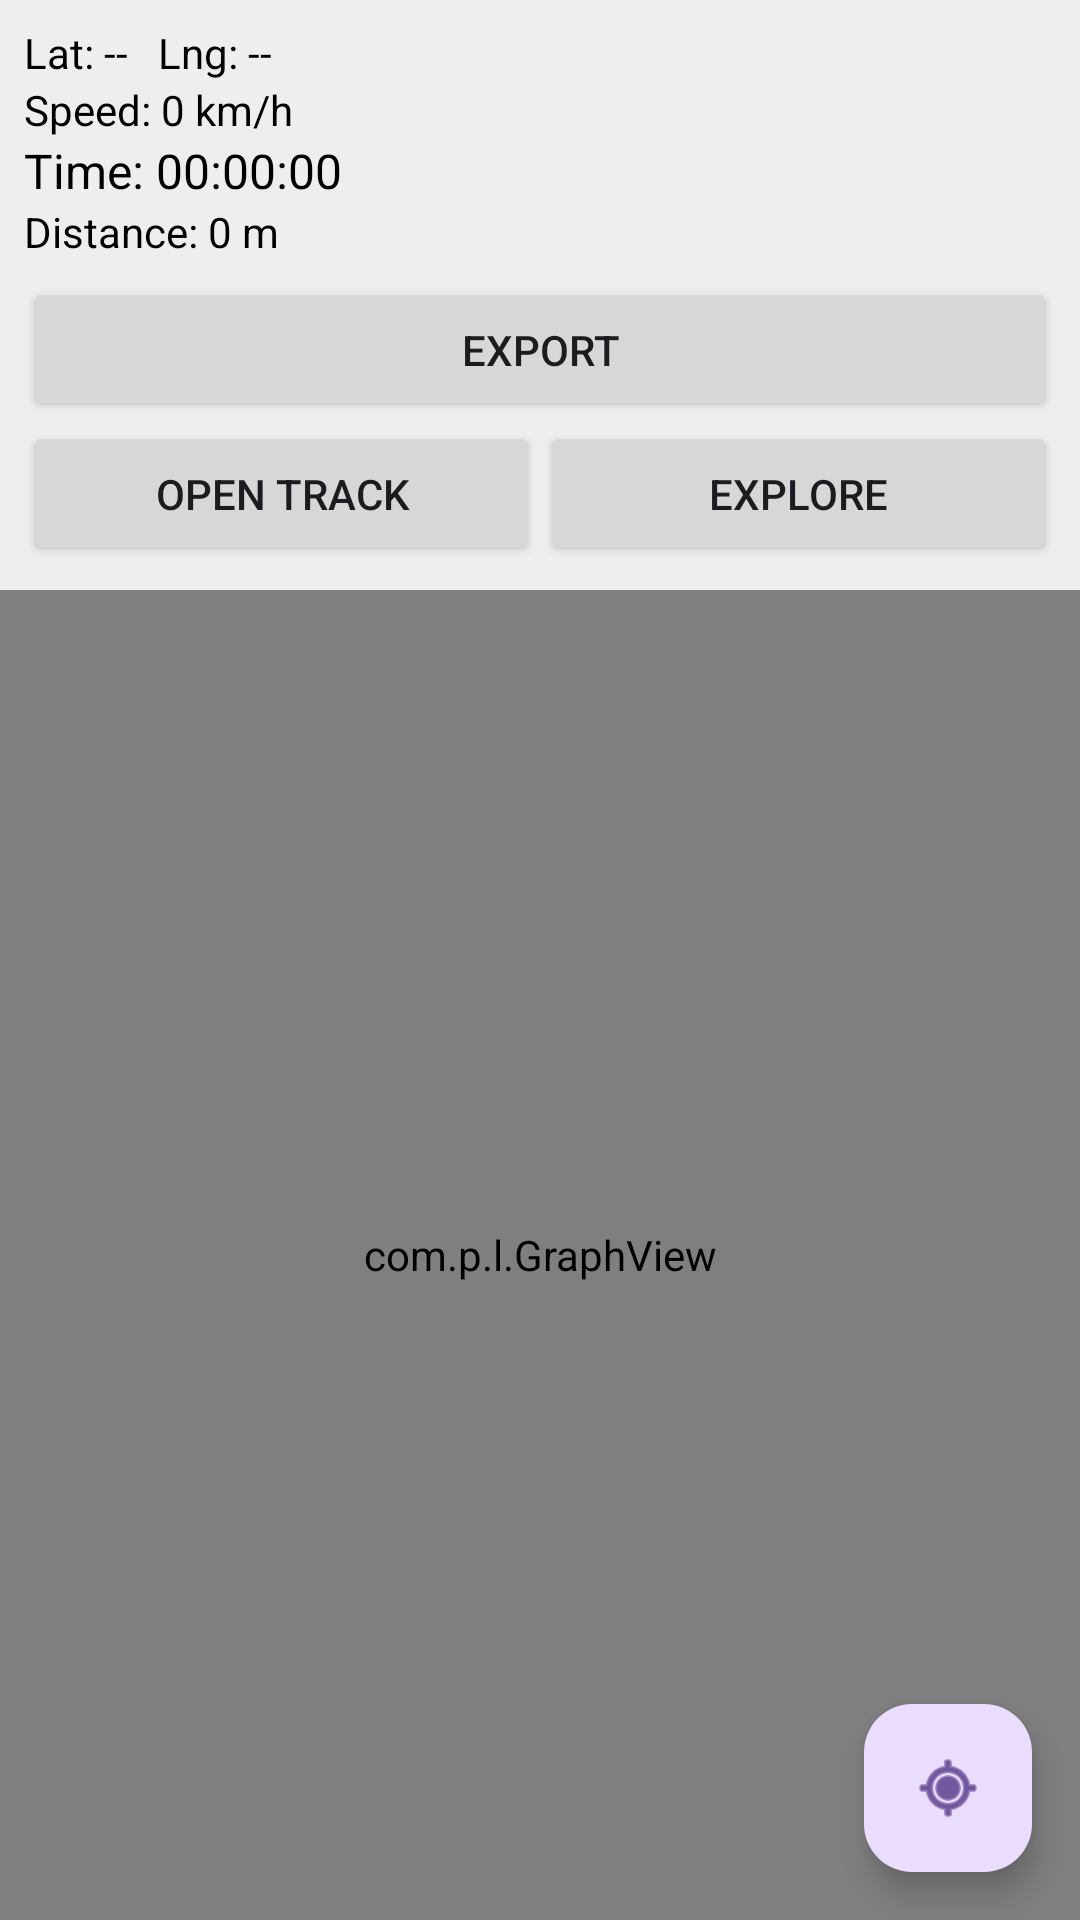

Icons on this 1080x1920 Android screen, each with the point to tap as point (x, y):
My Location: point (948, 1788)
